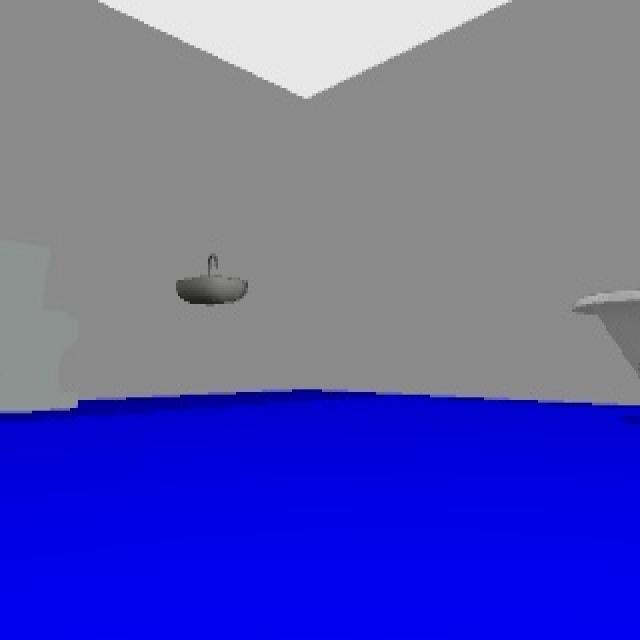bathtub: (570, 285, 638, 389)
